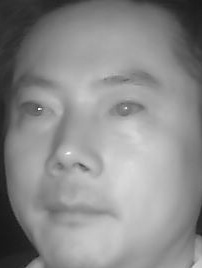eye: (18, 95, 62, 125), (104, 97, 150, 124)
mouth: (39, 188, 119, 234)
